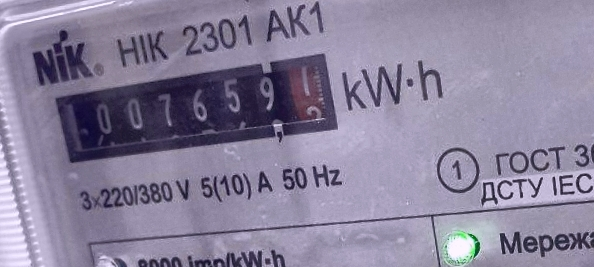0: (122, 93, 147, 135), (91, 99, 116, 139)
1: (292, 62, 316, 101)
5: (218, 75, 245, 117)
6: (185, 83, 212, 127)
7: (152, 88, 179, 130)
9: (254, 72, 280, 115)
screen: (44, 47, 345, 175)
